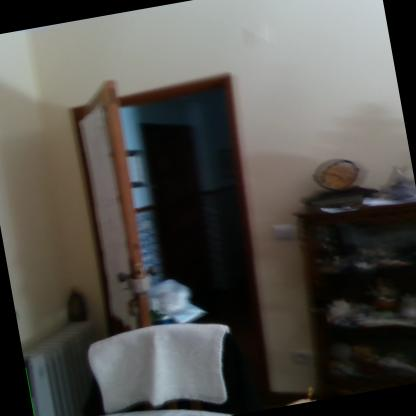semi: (53, 51, 294, 415)
